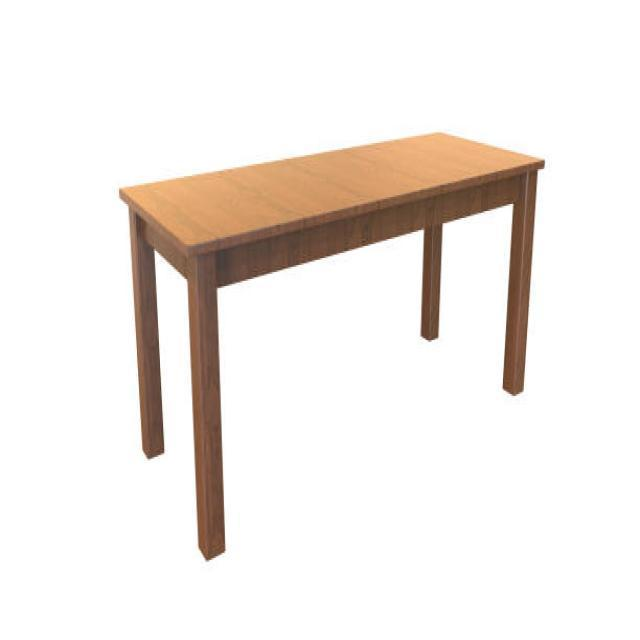table: (118, 130, 545, 560)
